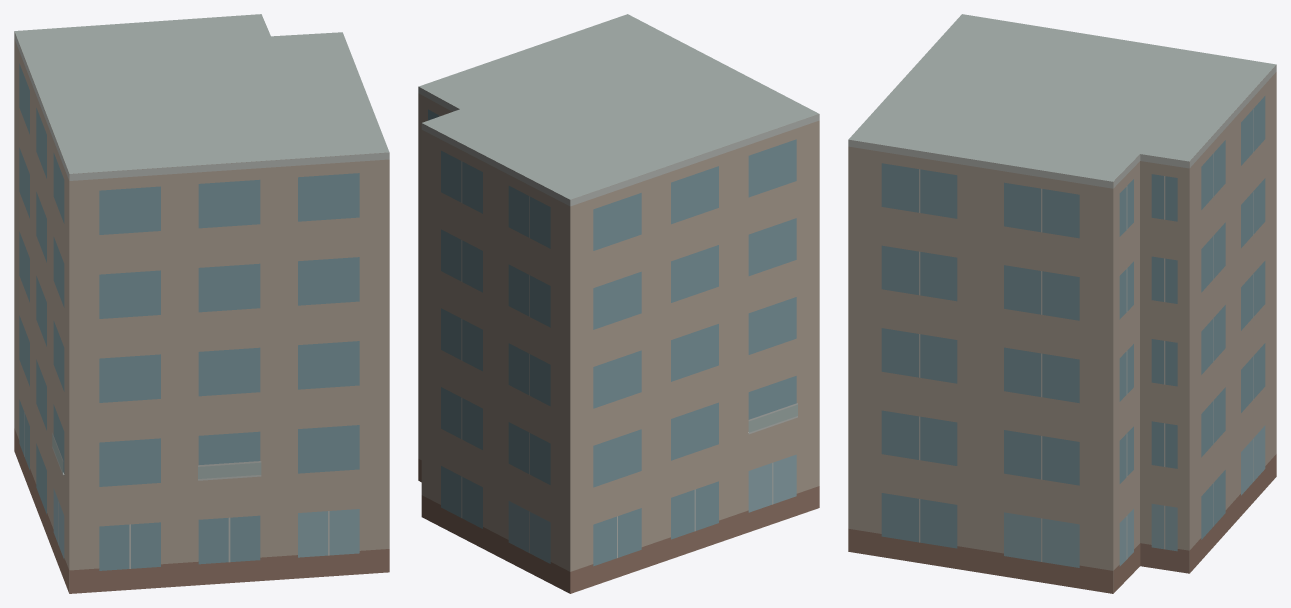
File: survey-upis-32937810.glb
3 views of the same model, side by side, from view 1: azimuth 30°, elevation 25°; view 2: azimuth 150°, elevation 25°; view 3: azimuth 270°, elevation 25° (orthographic). The views are drawn at different scales.
Visible parts, largest first — view 1: survey-upis-32937810.tmp; view 2: survey-upis-32937810.tmp; view 3: survey-upis-32937810.tmp.
Part boxes in pixels (<box>): survey-upis-32937810.tmp: <box>14,14,389,593</box>; survey-upis-32937810.tmp: <box>418,14,819,593</box>; survey-upis-32937810.tmp: <box>848,14,1276,593</box>.
Bounding box in the file's own units: 12.67 × 14.5 × 13.67.
